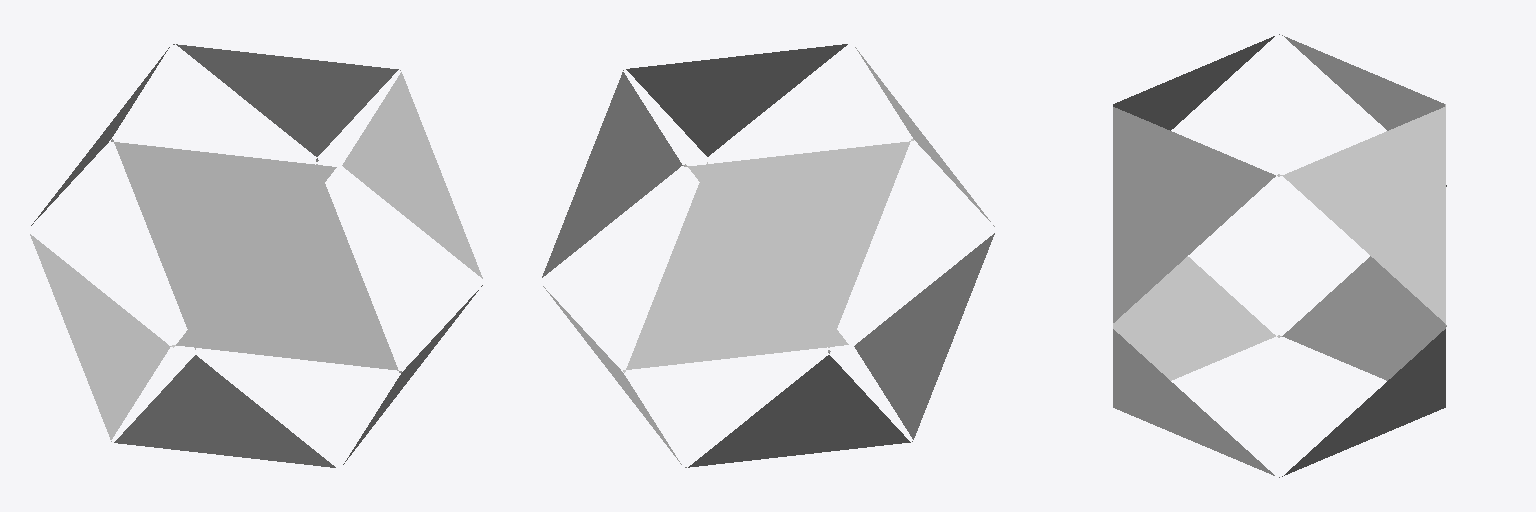
Rendered from oolite_coriolis_tris.obj.
The picture shows the model from 3 angles: view 1: azimuth 30°, elevation 25°; view 2: azimuth 150°, elevation 25°; view 3: azimuth 270°, elevation 25°; orthographic projection.
Parts seen in each view (by area): view 1: oolite_coriolis_tris.obj; view 2: oolite_coriolis_tris.obj; view 3: oolite_coriolis_tris.obj.
Boxes of the visible parts, box(x1,y1,x2,y2) form: oolite_coriolis_tris.obj: box(30, 44, 482, 467); oolite_coriolis_tris.obj: box(542, 44, 994, 467); oolite_coriolis_tris.obj: box(1113, 34, 1446, 477).
Size of the model in its own units: 1000 by 1000 by 996.